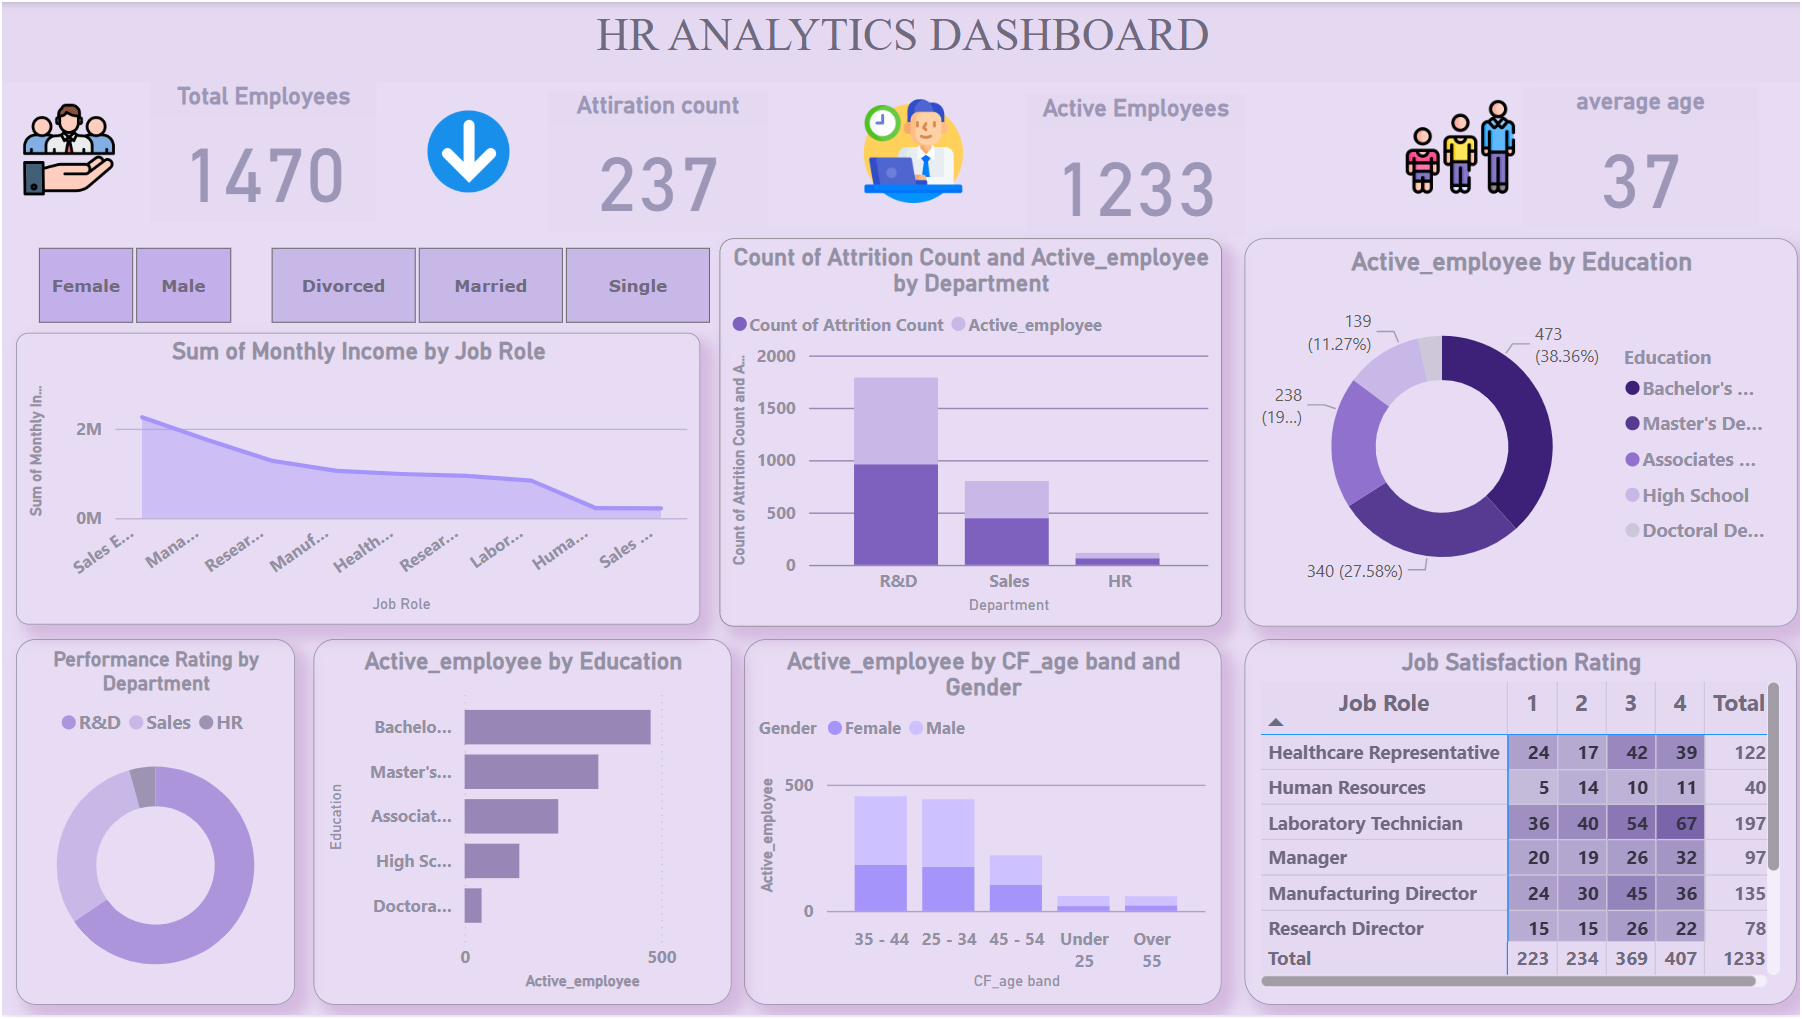

The page's visual inventory and layout, read from the dashboard file:
{"tool":"powerbi","page":{"name":"Page 1","canvas":[1280,720],"ordinal":0},"visuals":[{"type":"card","title":"Total Employees","fields":{"Values":["Sum(HR data.Employee Count)"]},"box":[106.3,57.3,160.8,99.3],"z":0},{"type":"card","title":"Attiration count","fields":{"Values":["Sum(HR data.Attrition Count)"]},"box":[388.7,62.9,156.6,99.3],"z":1000},{"type":"card","title":"Active Employees","fields":{"Values":["HR data.Active_employee"]},"box":[727,65.7,156.6,100.7],"z":2000},{"type":"card","title":"average age","fields":{"Values":["Avg(HR data.Age)"]},"box":[1080.7,61.5,167.8,99.3],"z":3000},{"type":"columnChart","fields":{"Category":["HR data.Department"],"Y":["CountNonNull(HR data.Attrition Count)","HR data.Active_employee"]},"box":[509.9,167.9,357,276.1],"z":4000},{"type":"donutChart","fields":{"Y":["HR data.Active_employee"],"Category":["HR data.Education"]},"box":[883.1,167.9,393,276.1],"z":5000},{"type":"columnChart","fields":{"Category":["HR data.CF_age band"],"Y":["HR data.Active_employee"],"Series":["HR data.Gender"]},"box":[527.4,452.7,339.5,259.9],"z":6000},{"type":"pivotTable","title":"Job Satisfaction Rating","fields":{"Rows":["HR data.Job Role"],"Values":["HR data.Active_employee"],"Columns":["HR data.Job Satisfaction"]},"box":[883.6,453,392.9,260],"z":7000},{"type":"donutChart","title":" Performance Rating by Department","fields":{"Y":["CountNonNull(HR data.Performance Rating)"],"Category":["HR data.Department"]},"box":[9.8,453,198.5,260],"z":8000},{"type":"clusteredBarChart","fields":{"Category":["HR data.Education"],"Y":["HR data.Active_employee"]},"box":[221.4,452.7,297.3,259.9],"z":9000},{"type":"areaChart","fields":{"Category":["HR data.Job Role"],"Y":["Sum(HR data.Monthly Income)"]},"box":[10,235.1,486.3,207.7],"z":10000},{"type":"slicer","fields":{"Values":["HR data.Gender"]},"box":[0,167.9,186.6,67.2],"z":11000},{"type":"slicer","fields":{"Values":["HR data.Marital Status"]},"box":[165.4,167.9,361.9,67.2],"z":12000},{"type":"image","box":[9.8,67.1,75.5,75.5],"z":13000},{"type":"image","box":[297.8,69.9,68.5,72.7],"z":14000},{"type":"image","box":[992.6,57.3,88.1,90.9],"z":15000},{"type":"image","box":[605.4,62.9,83.9,85.3],"z":16000},{"type":"textbox","box":[0,0,1280.6,57.3],"z":17000}]}

Visuals, with their boxes in screenshot pixels (x1, y1, x2, y2), scaled from the page's 1280x720 canvas onto the 1802x1019 screenshot:
"Total Employees" card: [x1=150, y1=81, x2=376, y2=222]
"Attiration count" card: [x1=547, y1=89, x2=768, y2=230]
"Active Employees" card: [x1=1023, y1=93, x2=1244, y2=236]
"average age" card: [x1=1521, y1=87, x2=1758, y2=228]
columnChart - HR data.Department x CountNonNull(HR data.Attrition Count): [x1=718, y1=238, x2=1220, y2=628]
donutChart - HR data.Active_employee x HR data.Education: [x1=1243, y1=238, x2=1797, y2=628]
columnChart - HR data.CF_age band x HR data.Active_employee: [x1=742, y1=641, x2=1220, y2=1009]
"Job Satisfaction Rating" pivotTable: [x1=1244, y1=641, x2=1797, y2=1009]
" Performance Rating by Department" donutChart: [x1=14, y1=641, x2=293, y2=1009]
clusteredBarChart - HR data.Education x HR data.Active_employee: [x1=312, y1=641, x2=730, y2=1009]
areaChart - HR data.Job Role x Sum(HR data.Monthly Income): [x1=14, y1=333, x2=699, y2=627]
slicer - HR data.Gender: [x1=0, y1=238, x2=263, y2=333]
slicer - HR data.Marital Status: [x1=233, y1=238, x2=742, y2=333]
image: [x1=14, y1=95, x2=120, y2=202]
image: [x1=419, y1=99, x2=516, y2=202]
image: [x1=1397, y1=81, x2=1521, y2=210]
image: [x1=852, y1=89, x2=970, y2=210]
textbox: [x1=0, y1=0, x2=1801, y2=81]
